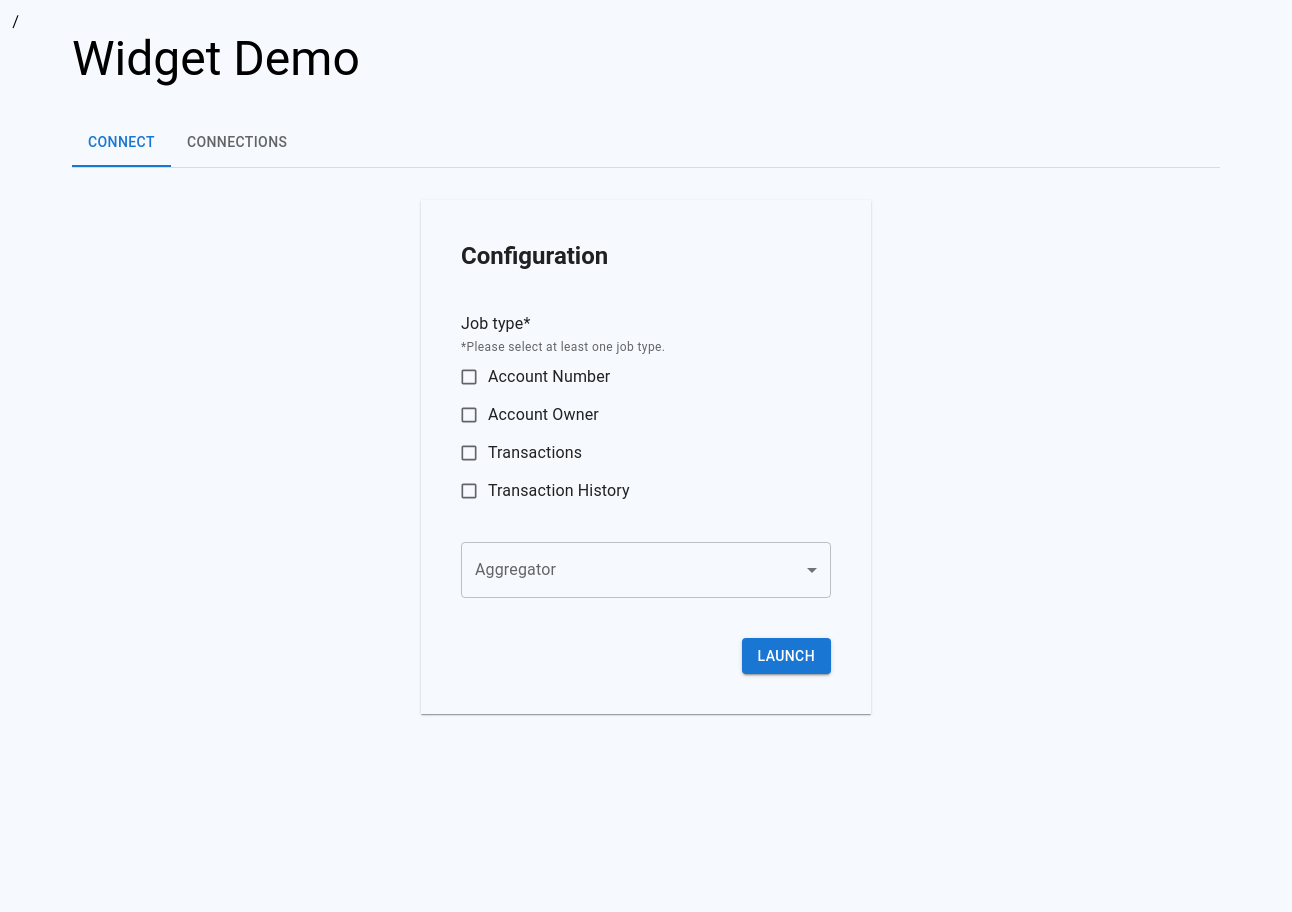
it: WidgetDemo › switches tabs correctly
Step 1. Click the tab "Connections" → click(237, 143), box [171,119,303,167]
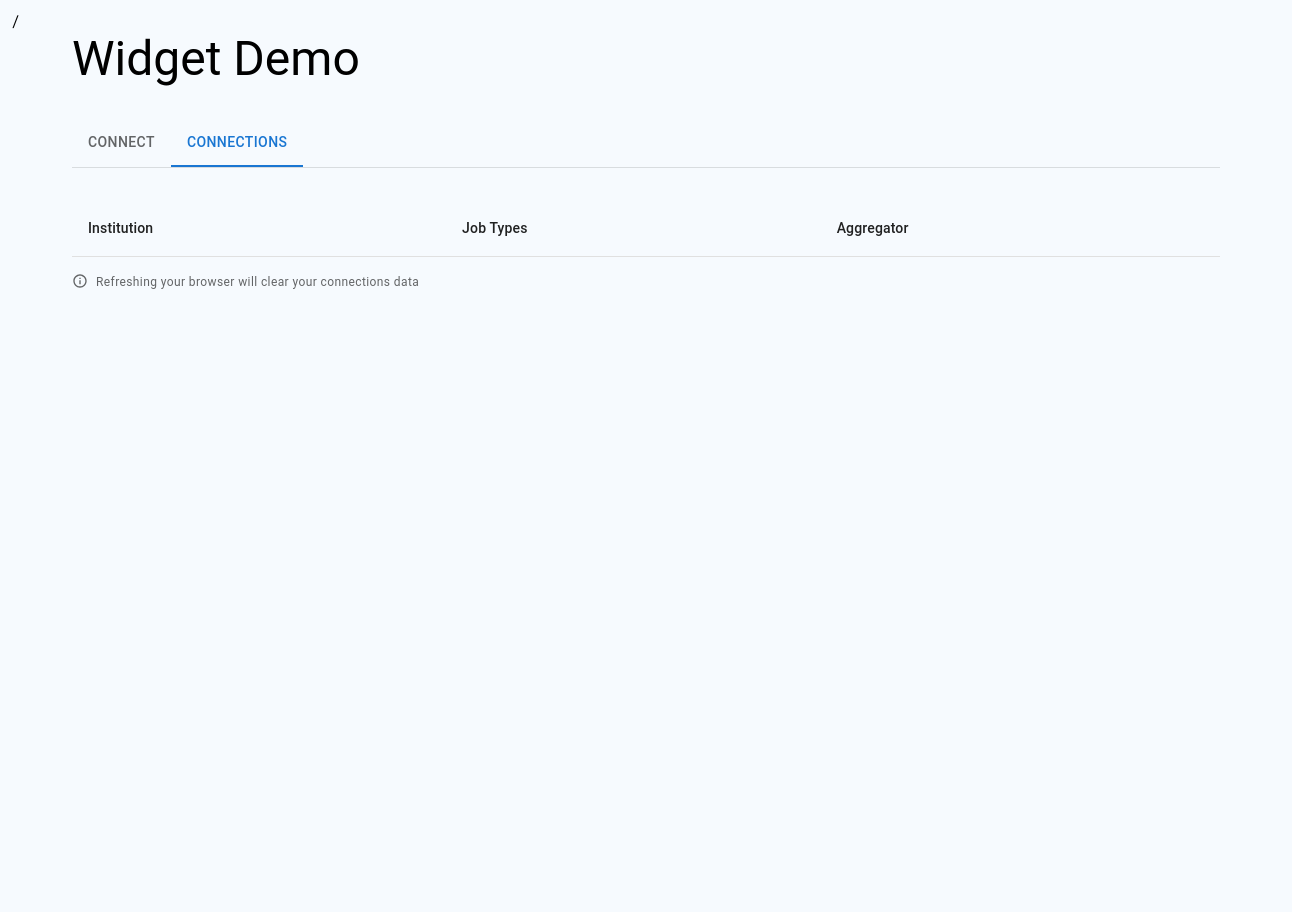
Now the column heading "Institution" is shown, box [72,200,446,256]
